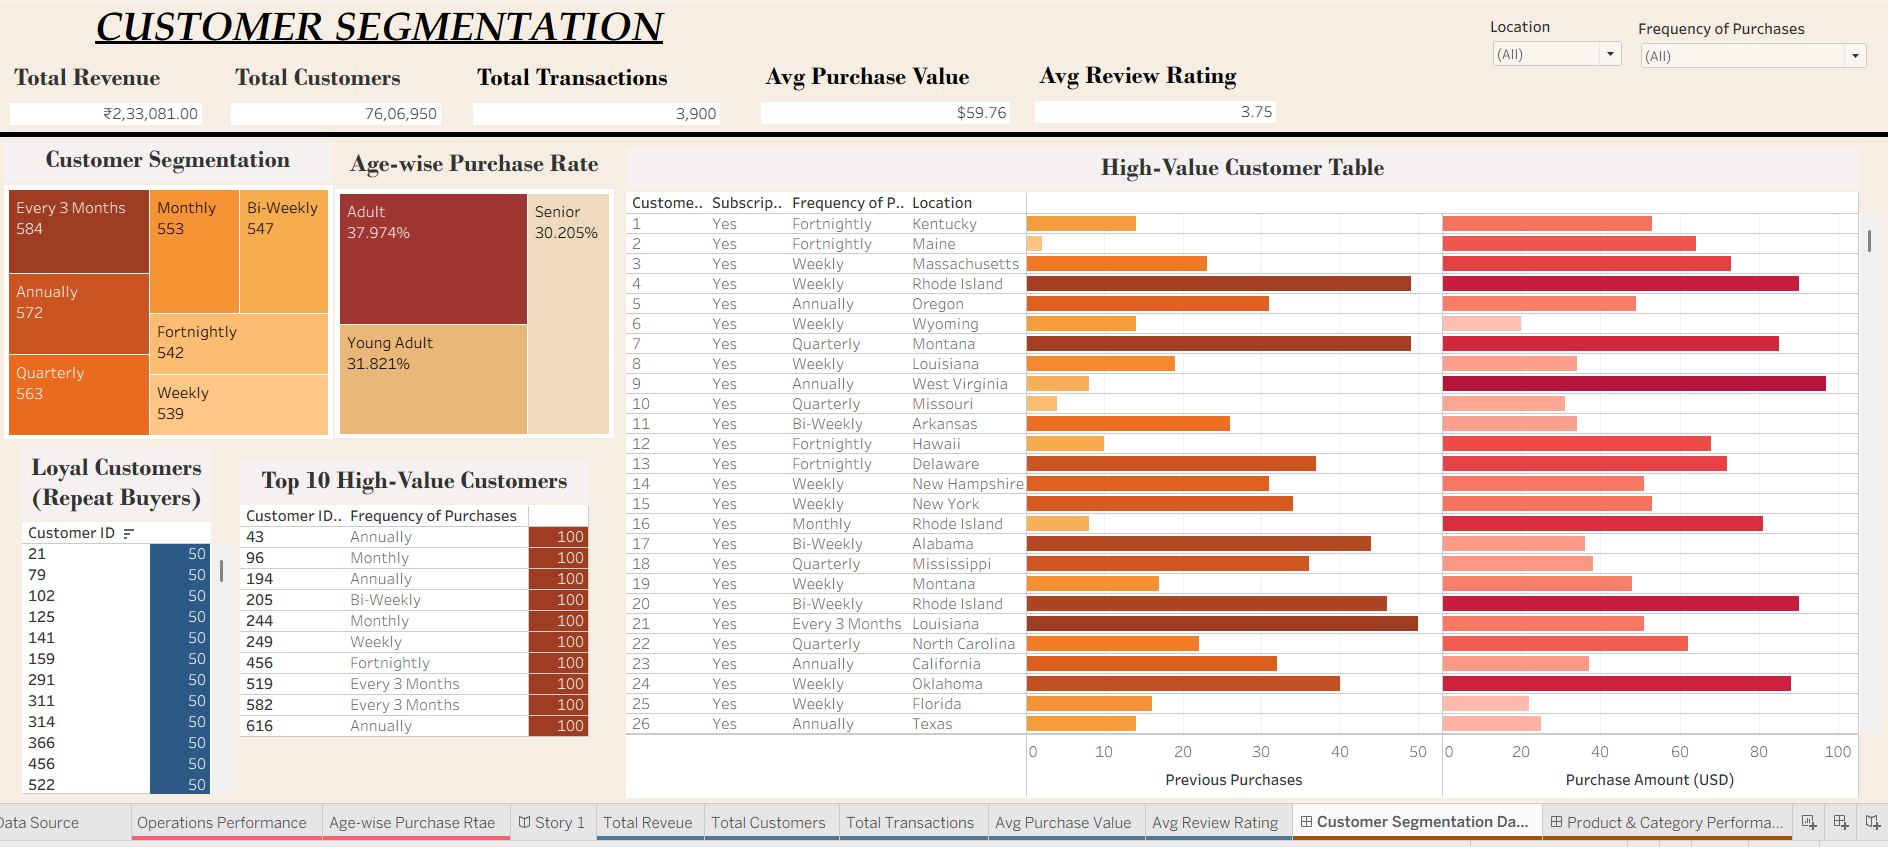

Layout of this report page (visuals, bound fields, positions):
{"tool":"tableau","page":{"name":"Customer Segmentation Dashboard","canvas":[1000,1000],"units":"permille","ordinal":0},"visuals":[{"type":"text","box":[4.2,5,394.2,56.2]},{"type":"filter","title":"High-Value Customer Table","param":"[federated.1p8sqk91qwhg50152f4av16mblpr].[none:Location:nk]","box":[789.2,18.7,71.5,82.4]},{"type":"filter","title":"Customer Segmentation","param":"[federated.1p8sqk91qwhg50152f4av16mblpr].[none:Frequency of Purchases:nk]","box":[867.4,21.2,122.8,89.9]},{"type":"worksheet","title":"Avg Review Rating","mark":"Automatic","box":[548,68.7,127.7,91.1]},{"type":"worksheet","title":"Avg Purchase Value","mark":"Automatic","box":[403.2,69.9,131.9,88.6]},{"type":"worksheet","title":"Total Reveue","mark":"Automatic","box":[5.4,71.2,101.6,88.6]},{"type":"worksheet","title":"Total Customers","mark":"Text","box":[122.2,71.2,111.2,89.9]},{"type":"worksheet","title":"Total Transactions","mark":"Automatic","box":[250.5,71.2,130.7,93.6]},{"type":"dashboard-object","box":[794.4,98.6,185.6,43.7]},{"type":"worksheet","title":"Customer Segmentation","mark":"Automatic","box":[2.1,173.5,175.3,373.3]},{"type":"worksheet","title":"Age-wise Purchase Rtae","mark":"Automatic","box":[177.4,178.5,150.4,367]},{"type":"worksheet","title":"High-Value Customer Table","mark":"Bar","rows":["Customer ID","Subscription Status","Frequency of Purchases","Location"],"cols":["Previous Purchases","Purchase Amount (USD)"],"box":[331.6,183.5,664.2,811.5]},{"type":"worksheet","title":"Loyal Customers (Repeat Buyers)","mark":"Square","rows":["Customer ID"],"box":[11.7,558.1,111.8,432]},{"type":"worksheet","title":"Top 10 high-value customers","mark":"Square","rows":["Frequency of Purchases"],"box":[127.1,574.3,185.9,355.8]}]}

Visuals, with their boxes on the dashboard's canvas, which has no fixed pixel size, in thousandths of its width and height (x1, y1, x2, y2). These are canvas units, not pixel positions in the 1888x847 screenshot, which may show the page scaled, cropped or inside an application window:
text: [4,5,398,61]
"High-Value Customer Table" filter: [789,19,861,101]
"Customer Segmentation" filter: [867,21,990,111]
"Avg Review Rating" worksheet: [548,69,676,160]
"Avg Purchase Value" worksheet: [403,70,535,158]
"Total Reveue" worksheet: [5,71,107,160]
"Total Customers" worksheet (Text marks): [122,71,233,161]
"Total Transactions" worksheet: [250,71,381,165]
dashboard-object: [794,99,980,142]
"Customer Segmentation" worksheet: [2,174,177,547]
"Age-wise Purchase Rtae" worksheet: [177,178,328,546]
"High-Value Customer Table" worksheet (Bar marks): [332,184,996,995]
"Loyal Customers (Repeat Buyers)" worksheet (Square marks): [12,558,124,990]
"Top 10 high-value customers" worksheet (Square marks): [127,574,313,930]
